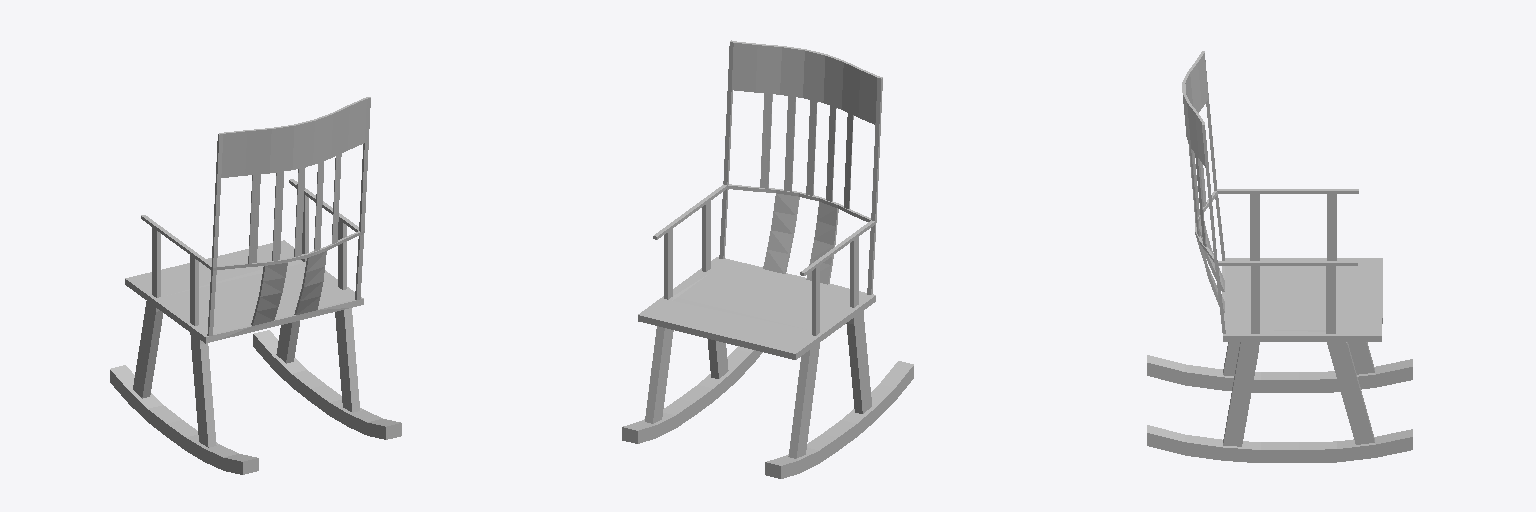
File: chaisebercante.obj
The picture shows the model from 3 angles: view 1: azimuth 30°, elevation 25°; view 2: azimuth 150°, elevation 25°; view 3: azimuth 270°, elevation 25°; orthographic projection.
Size of the model in its own units: 1.11 by 2.24 by 1.6.